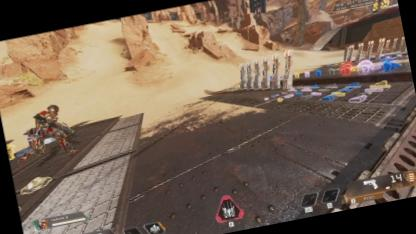Target: (10, 100, 76, 168)
